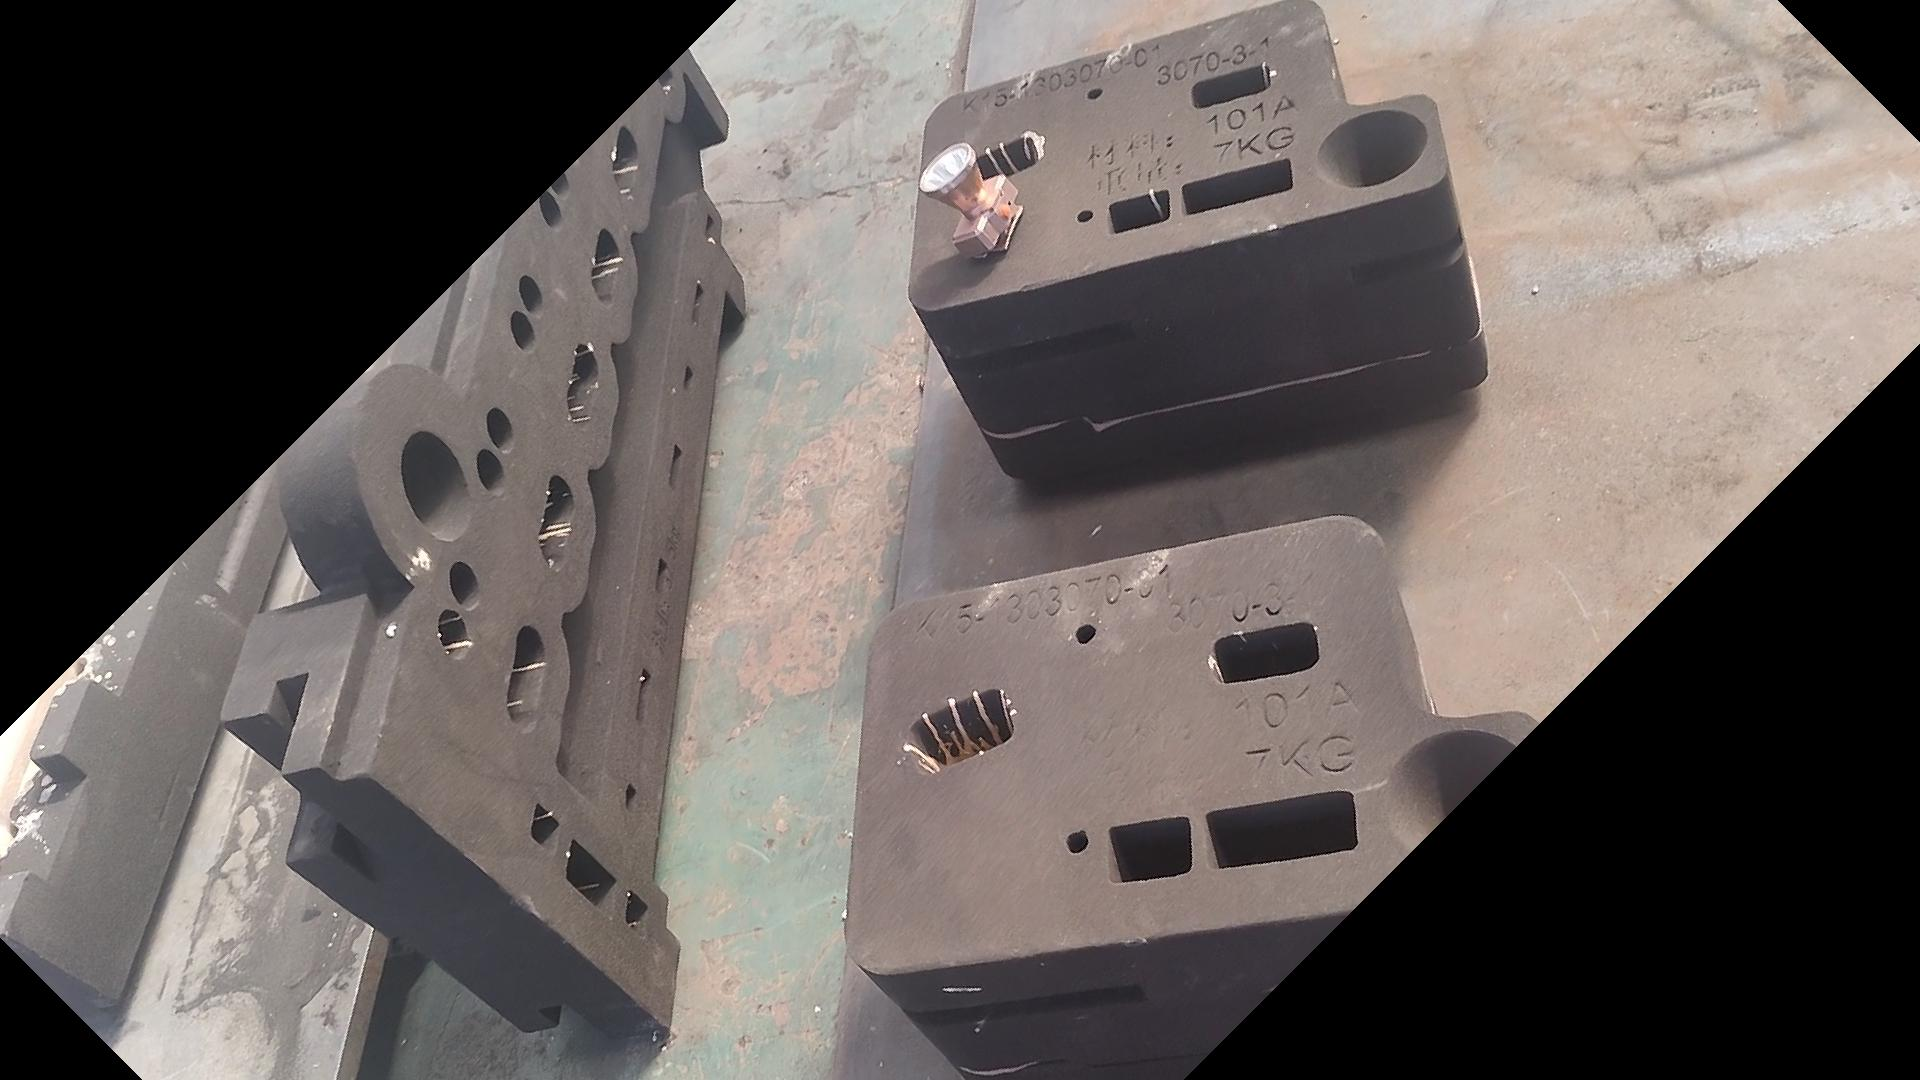pouring hole: (1385, 727, 1527, 856), (1313, 109, 1429, 187), (404, 429, 473, 545)
